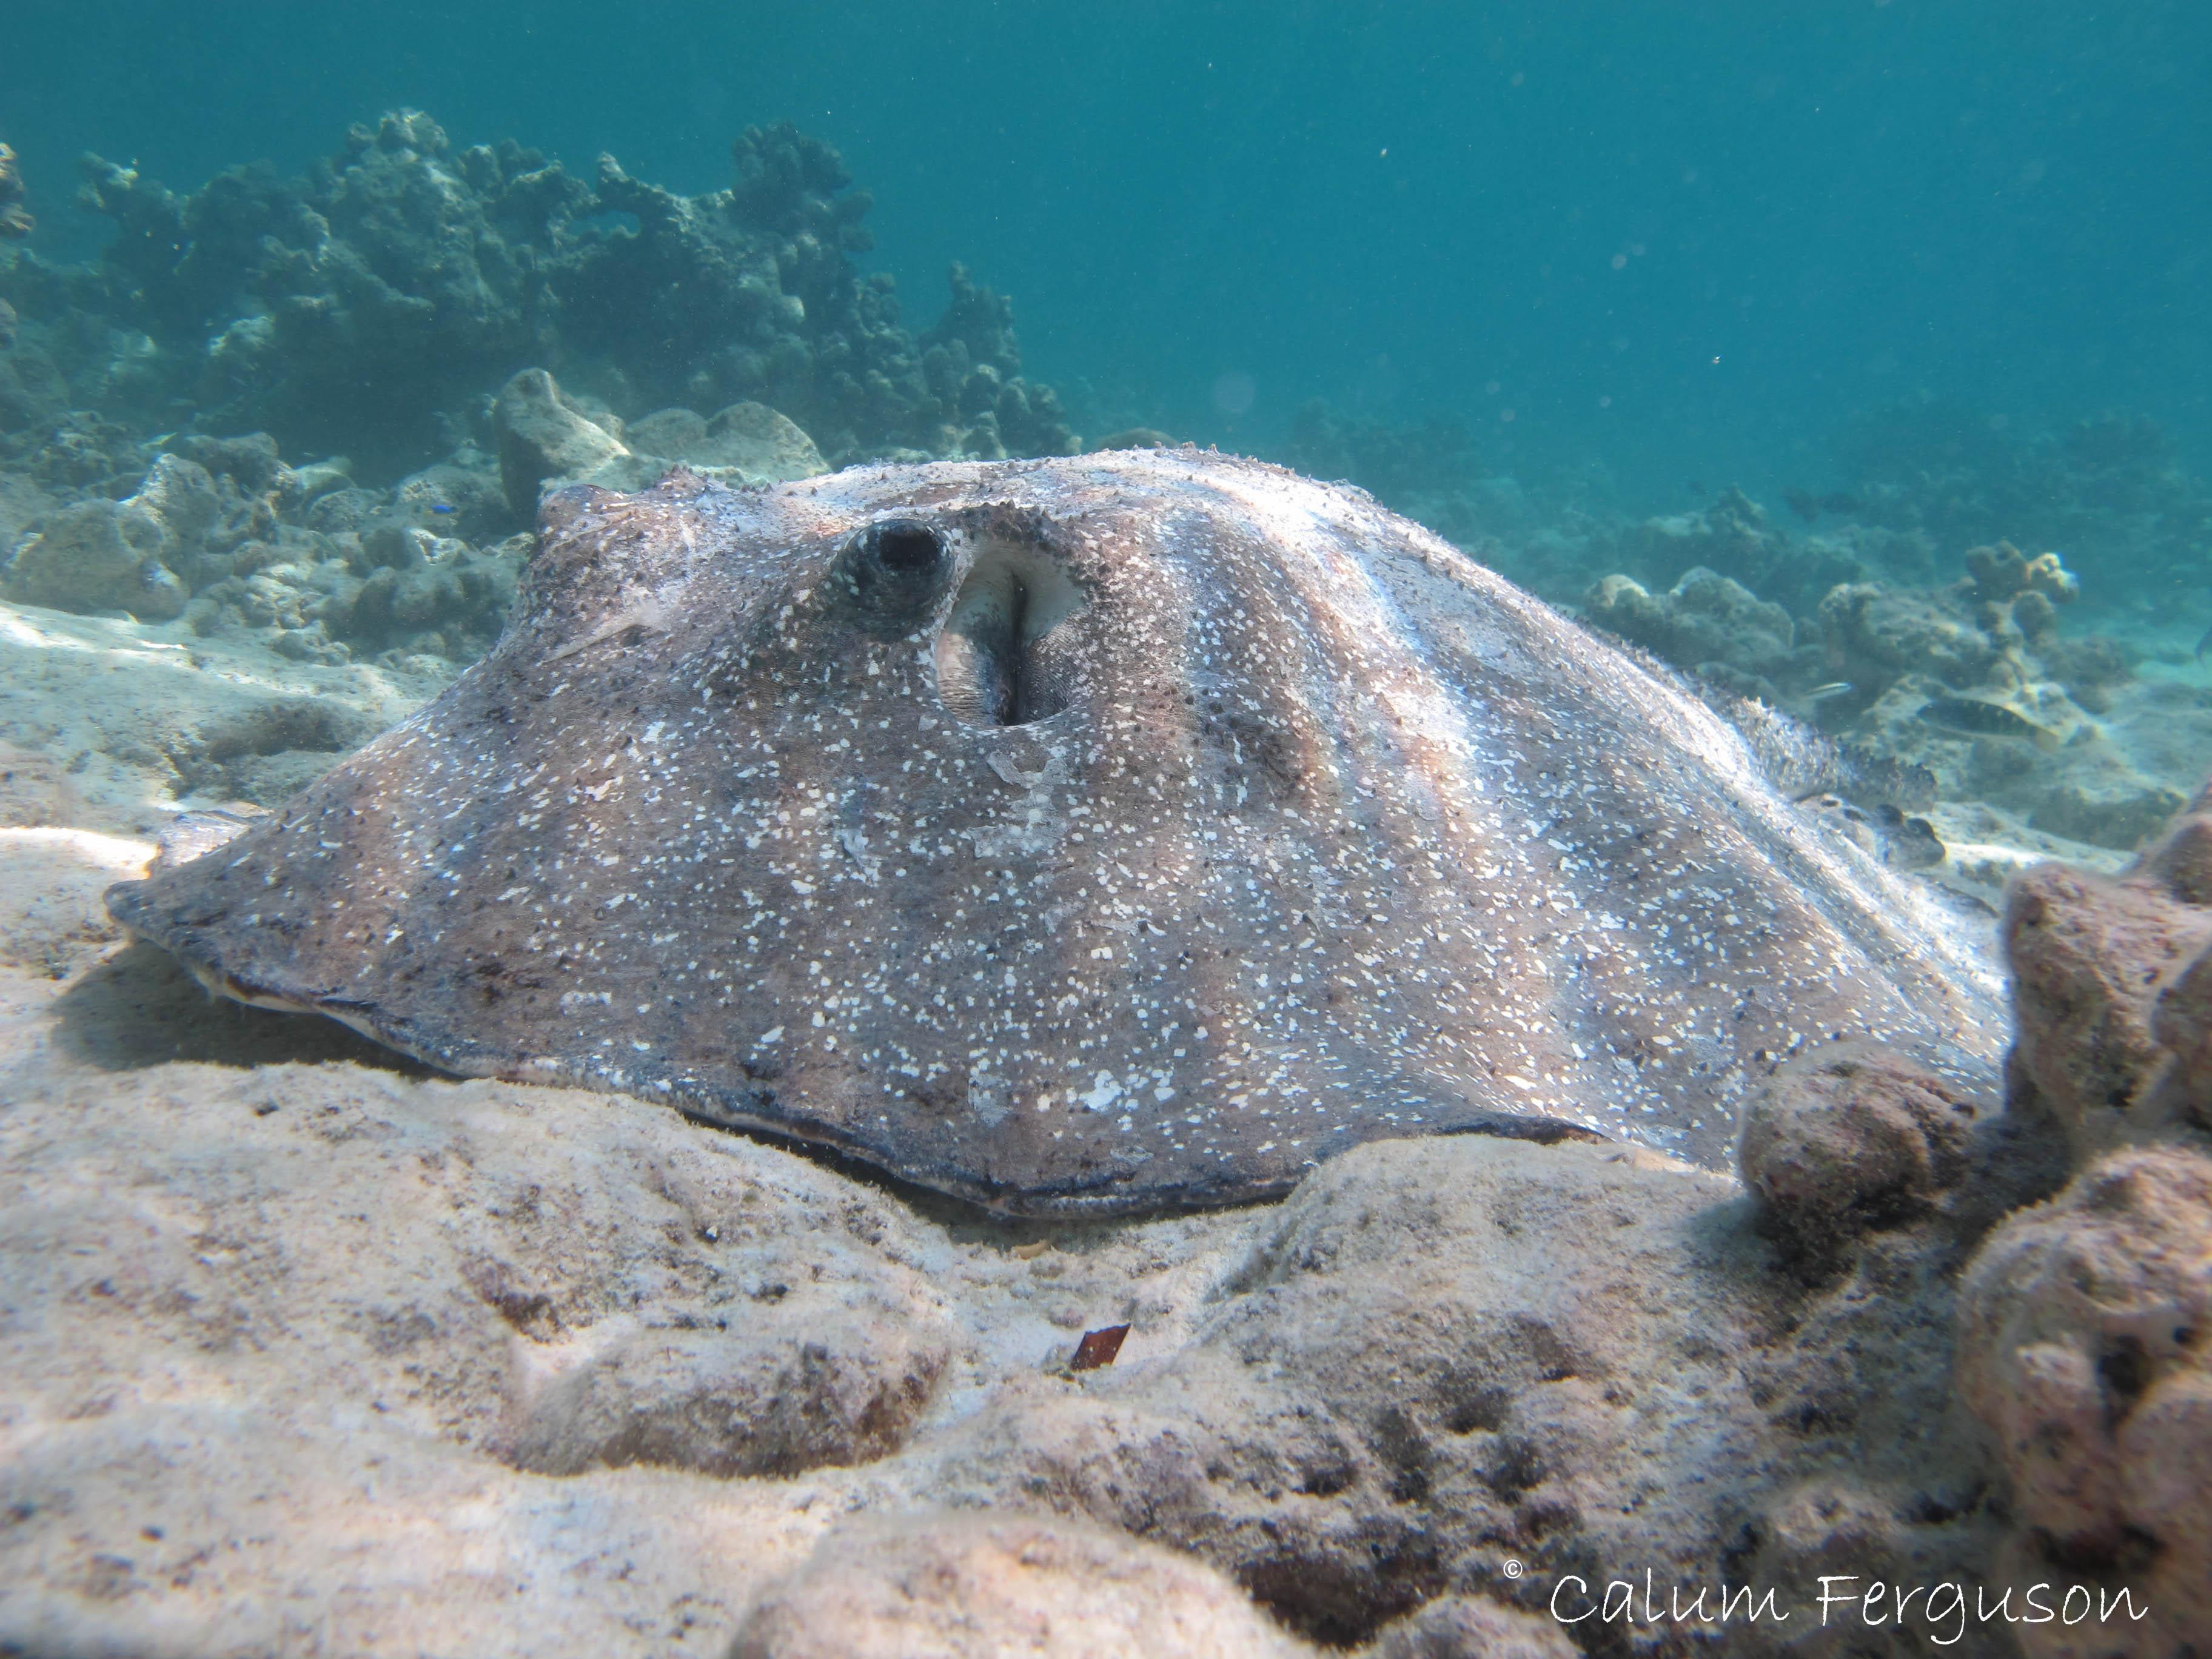Fish: (101, 347, 2076, 1249)
